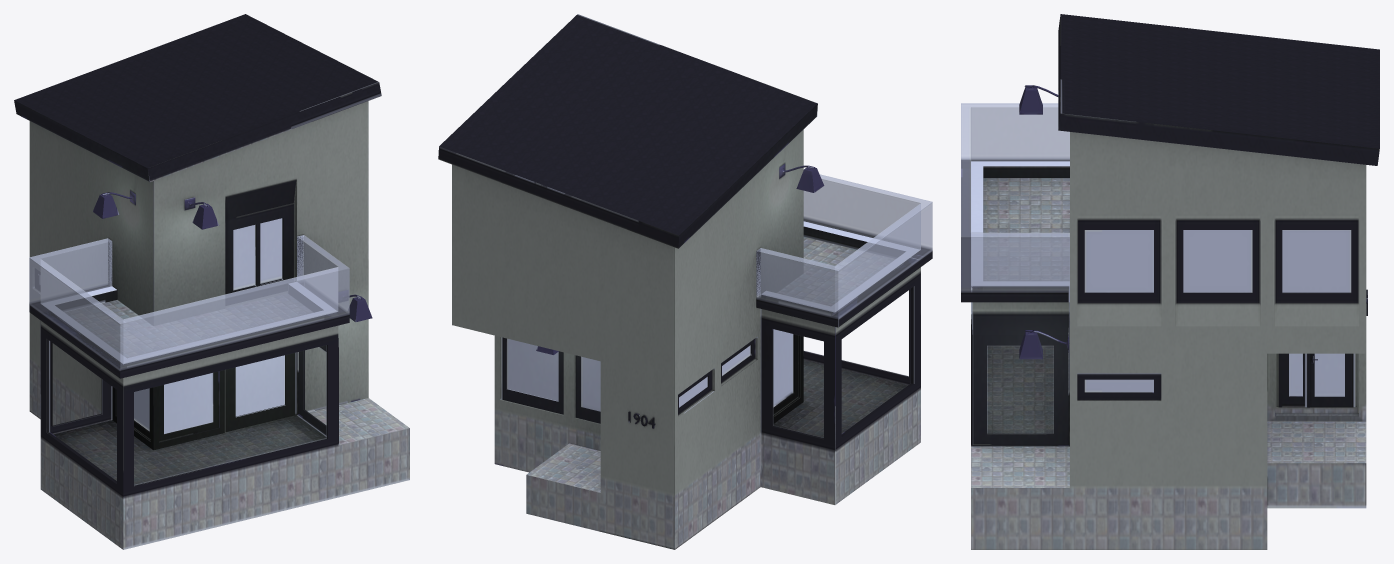
The model's file is ruko.glb.
3 renders of one model, left to right at view 1: azimuth 30°, elevation 25°; view 2: azimuth 150°, elevation 25°; view 3: azimuth 270°, elevation 25°, orthographic. The views are drawn at different scales.
Visible parts, largest first — view 1: Object_3; view 2: Object_3; view 3: Object_3.
Part boxes in pixels (<box>): Object_3: <box>14,14,409,549</box>; Object_3: <box>438,14,932,549</box>; Object_3: <box>961,14,1379,549</box>.
Size of the model in its own units: 8.43 by 9.84 by 8.47.
1 material, 1 textured.
